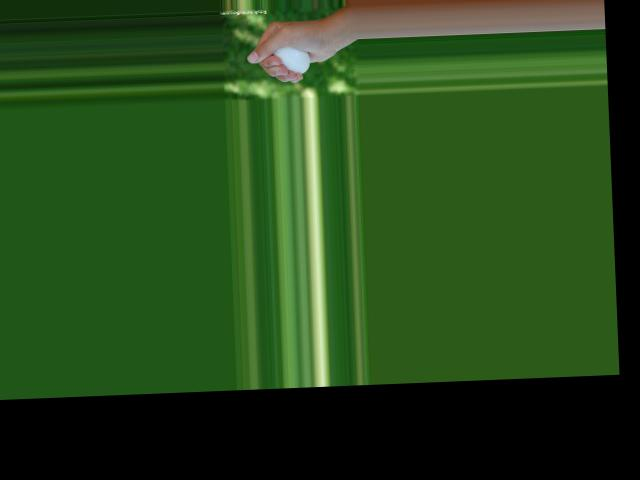egg: (272, 46, 310, 74)
